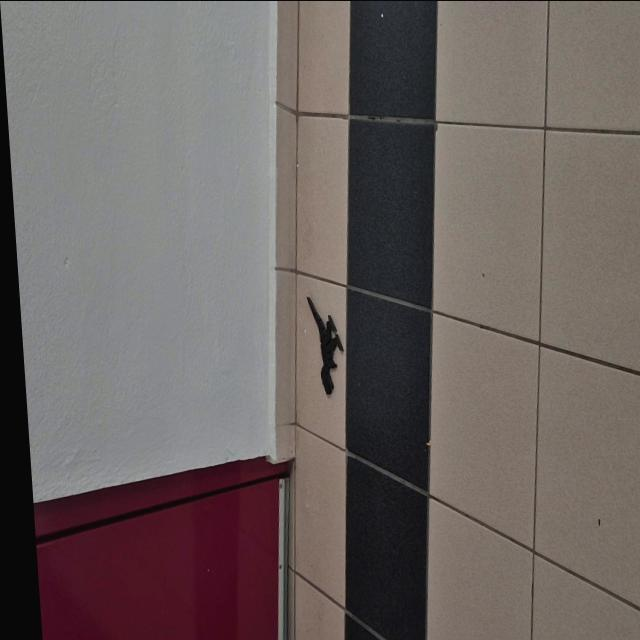dino: (306, 294, 347, 394)
